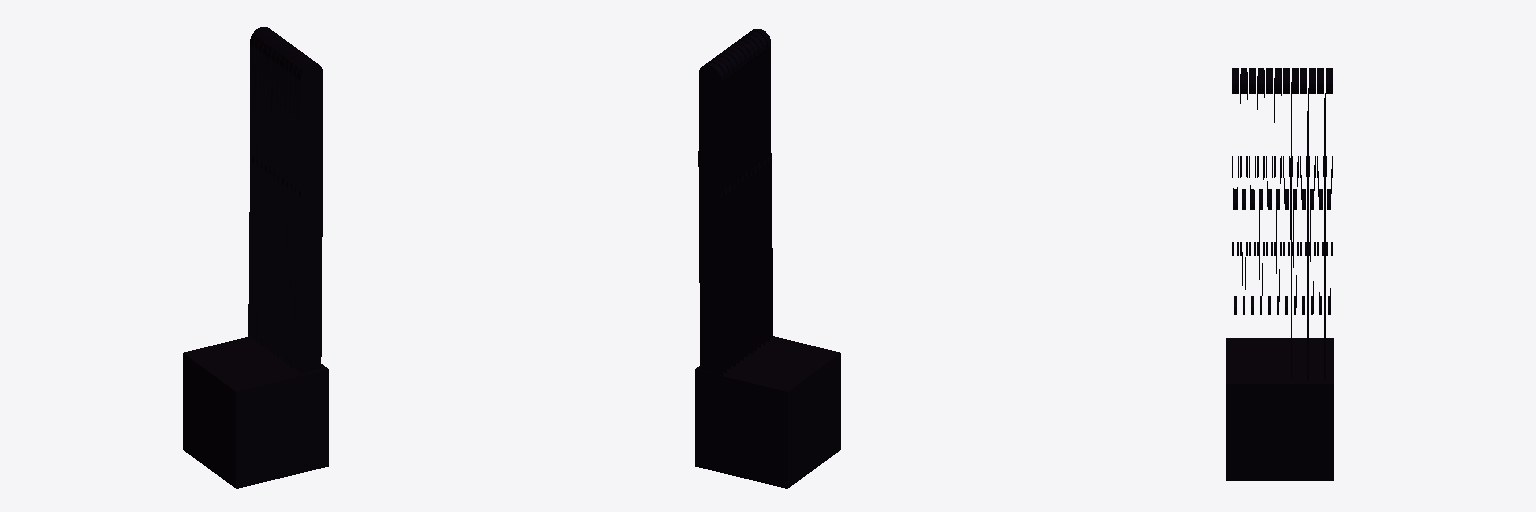
File: wallBottom.obj
3 renders of one model, left to right at view 1: azimuth 30°, elevation 25°; view 2: azimuth 150°, elevation 25°; view 3: azimuth 270°, elevation 25°, orthographic.
Visible parts, largest first — view 1: wallBottom_0; view 2: wallBottom_0; view 3: wallBottom_0.
Part boxes in pixels (x1,y1,x2,y2): wallBottom_0: (183,27,328,488); wallBottom_0: (695,29,840,488); wallBottom_0: (1226,68,1333,480).
Bounding box in the file's own units: 2 × 8.33 × 2.